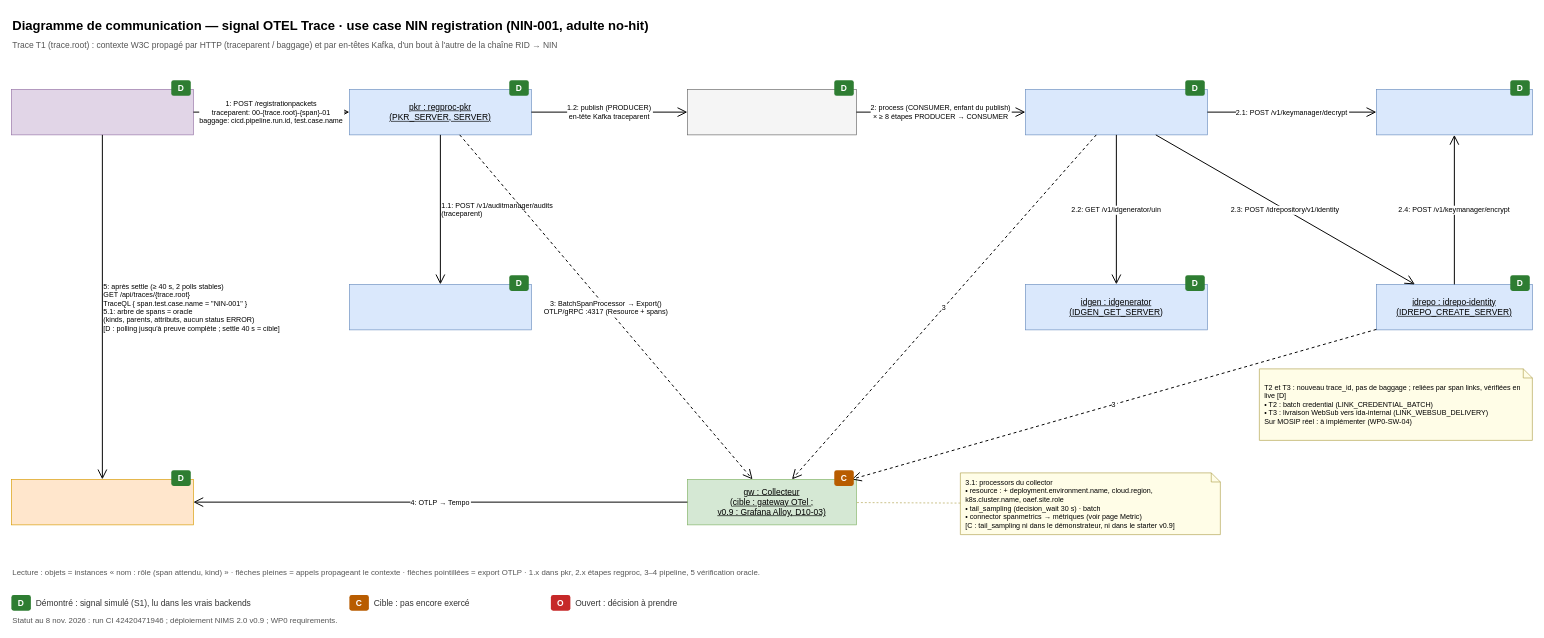
The diagram is 1544 pixels wide and 638 high, and some of its shapes have lost their labels. The shapes that lost their labels are listed below. From the top down, each one's centre as x and y in pixels, then its label:
the point at 102,112: jarvis : Test runner (span ROOT « NIN-001 », INTERNAL)
the point at 771,112: bus : Kafka (topics des étapes regproc)
the point at 1116,112: stages : regproc-group1..7 (STAGE_PROCESS, CONSUMER)
the point at 1454,112: km : keymanager
the point at 440,307: audit : auditmanager (AUDIT_SERVER)
the point at 102,502: traces : Tempo (TraceQL)
